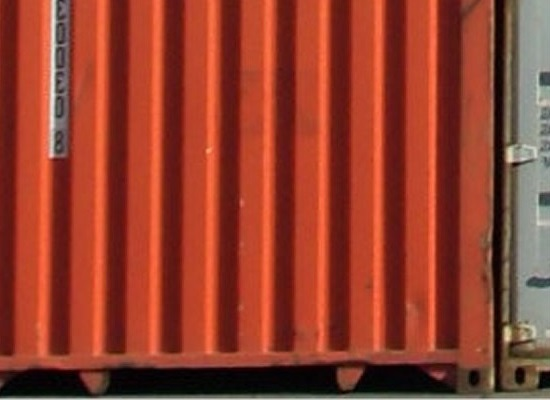container_no_door: (1, 1, 496, 383)
